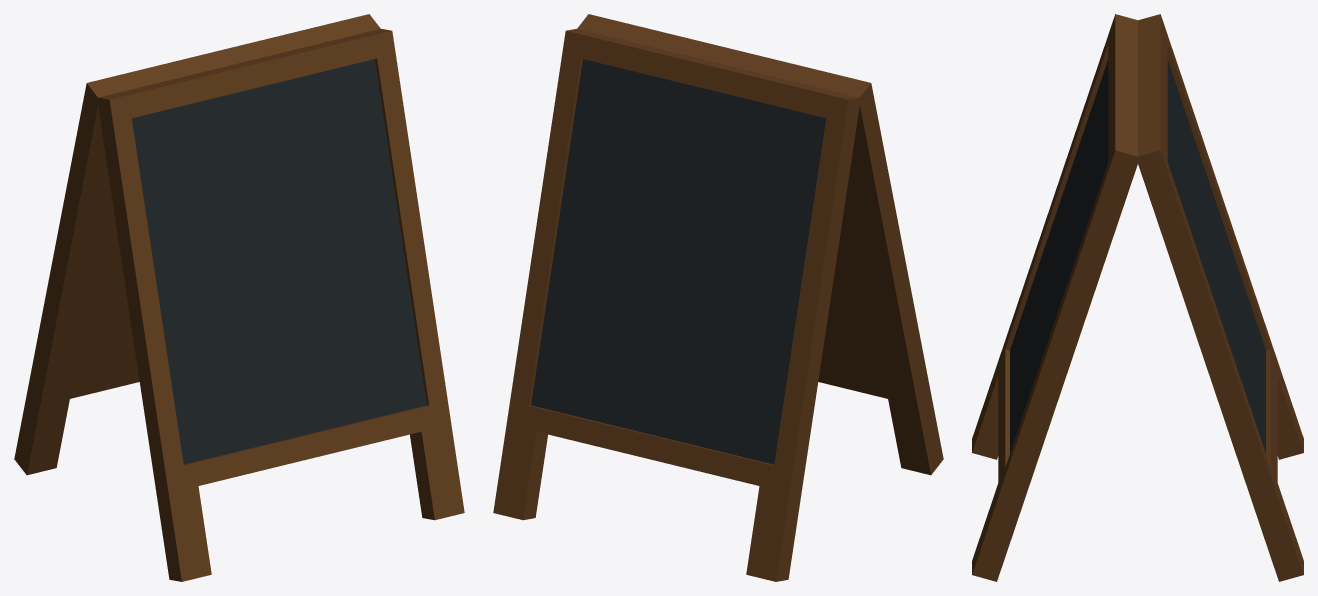
File: Menu_01.fbx
3 renders of one model, left to right at view 1: azimuth 30°, elevation 25°; view 2: azimuth 150°, elevation 25°; view 3: azimuth 270°, elevation 25°, orthographic.
Parts seen in each view (by area): view 1: Menu_01; view 2: Menu_01; view 3: Menu_01.
Part boxes in pixels (x1,y1,x2,y2): Menu_01: [14, 14, 464, 581]; Menu_01: [493, 14, 943, 581]; Menu_01: [972, 14, 1303, 581].
Bounding box in the file's own units: 54.86 × 80.88 × 56.36.
